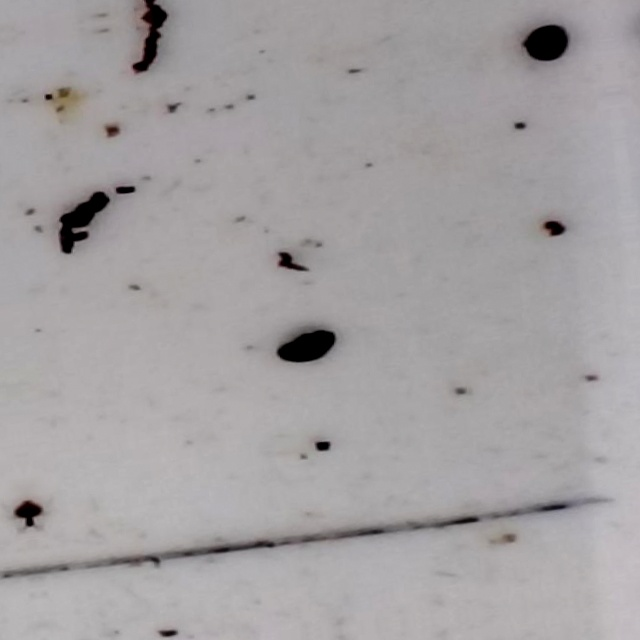varroa: (513, 16, 572, 70), (270, 327, 339, 370)
